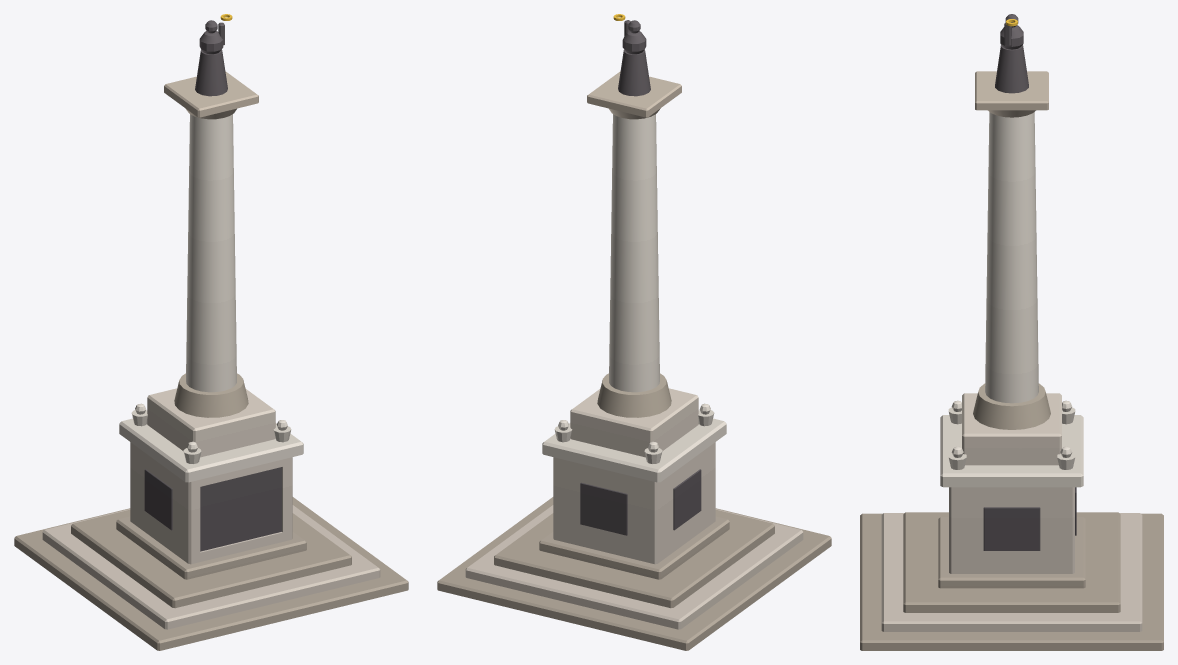
Rendered from monument_kit.glb.
3 views of the same model, side by side, from view 1: azimuth 30°, elevation 25°; view 2: azimuth 150°, elevation 25°; view 3: azimuth 270°, elevation 25° (orthographic). The views are drawn at different scales.
Parts seen in each view (by area): view 1: monument_kit; view 2: monument_kit; view 3: monument_kit.
Boxes of the visible parts, left/top/right/bottom form: monument_kit: left=14, top=14, right=408, bottom=650; monument_kit: left=437, top=14, right=831, bottom=650; monument_kit: left=860, top=14, right=1163, bottom=650.
Size of the model in its own units: 7 by 14.56 by 7.
1 material, 1 textured.
